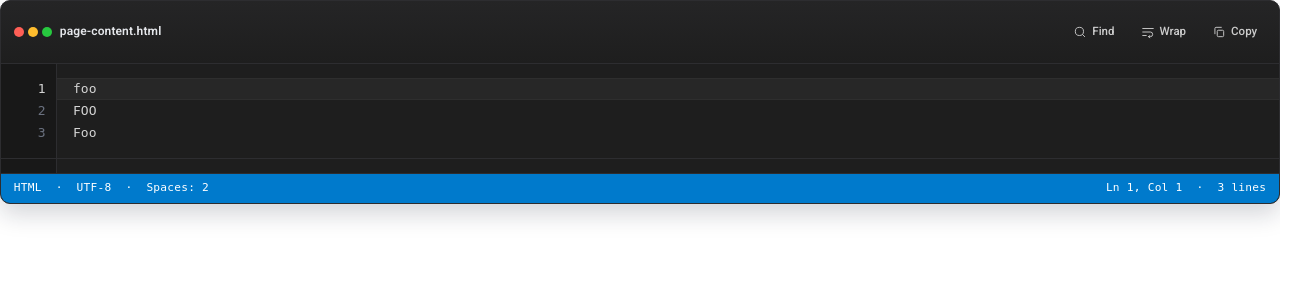
it: HtmlCodeEditor › respects the match-case toggle in Find
Type keys "{Control>}f{/Control}"
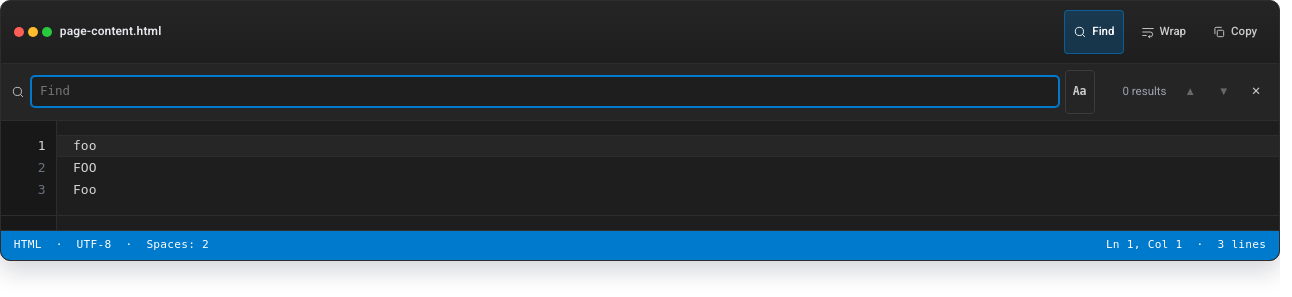
Type "foo" into the field named "Find text in editor" at (545, 92), box [31,76,1059,107]
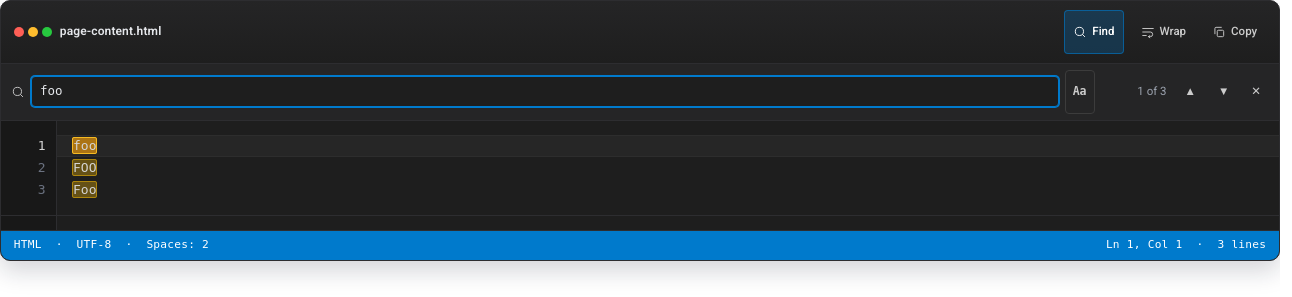
Check: the element with test id "html-code-editor-find" shows "1 of 3", box [1137,84,1166,98]
Click the button with aria-label "match case" at (1080, 92), box [1065,70,1095,114]
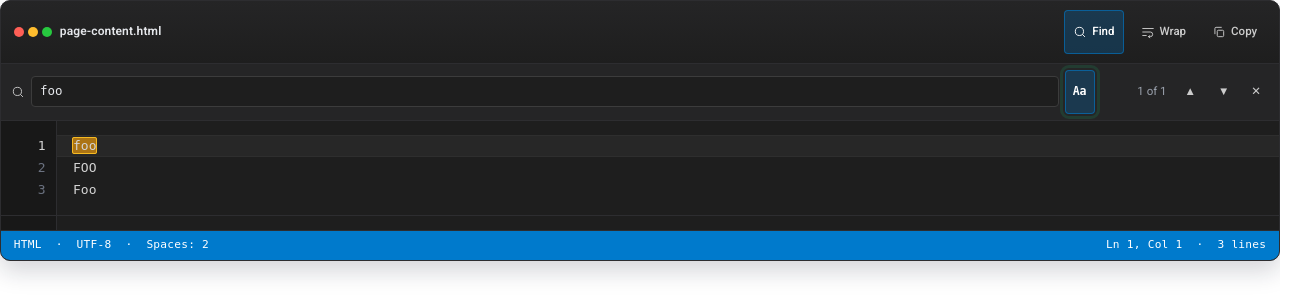
Check: the element with test id "html-code-editor-find" shows "1 of 1", box [1137,84,1166,98]
